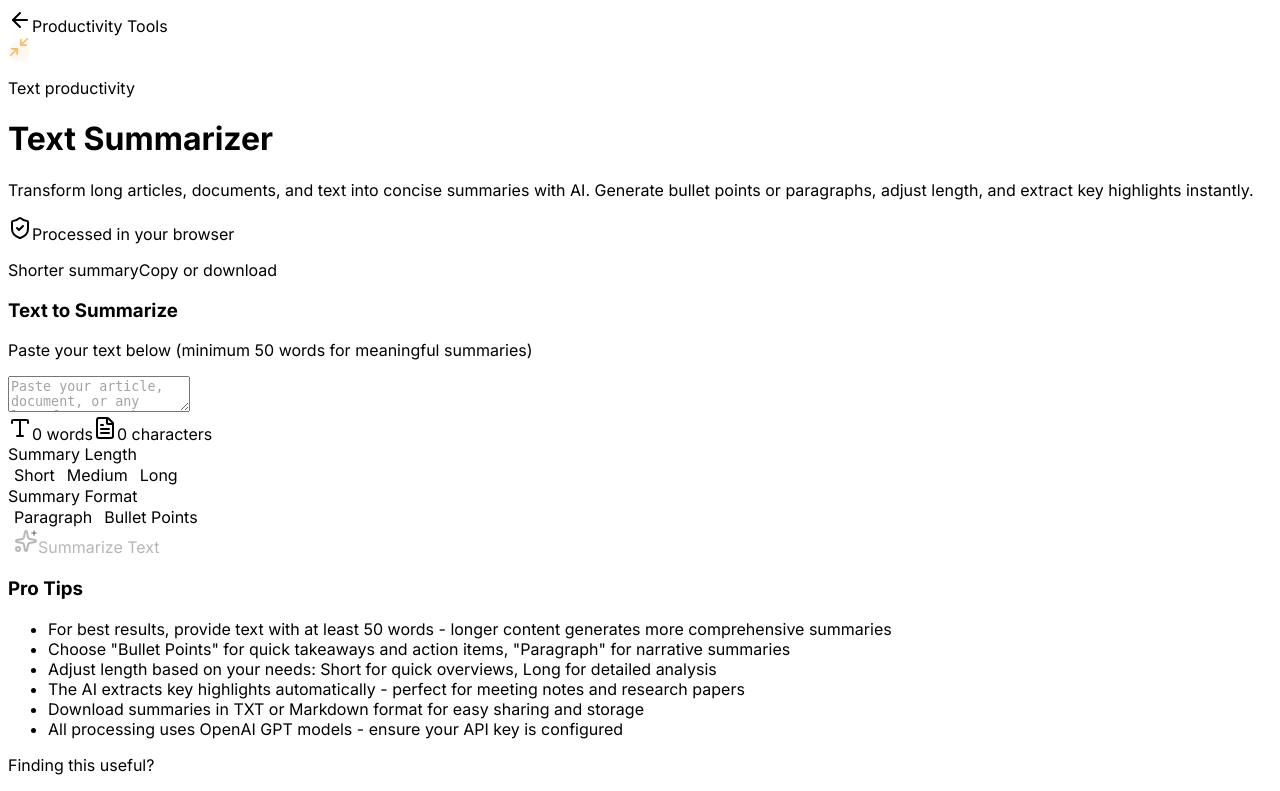
Test: Text Summarizer - Component Tests › should show word and character count
Type "Hello world" into the text box with placeholder "Paste your article, document".
click(99, 394); type("Hello world")  # box [8,376,190,412]
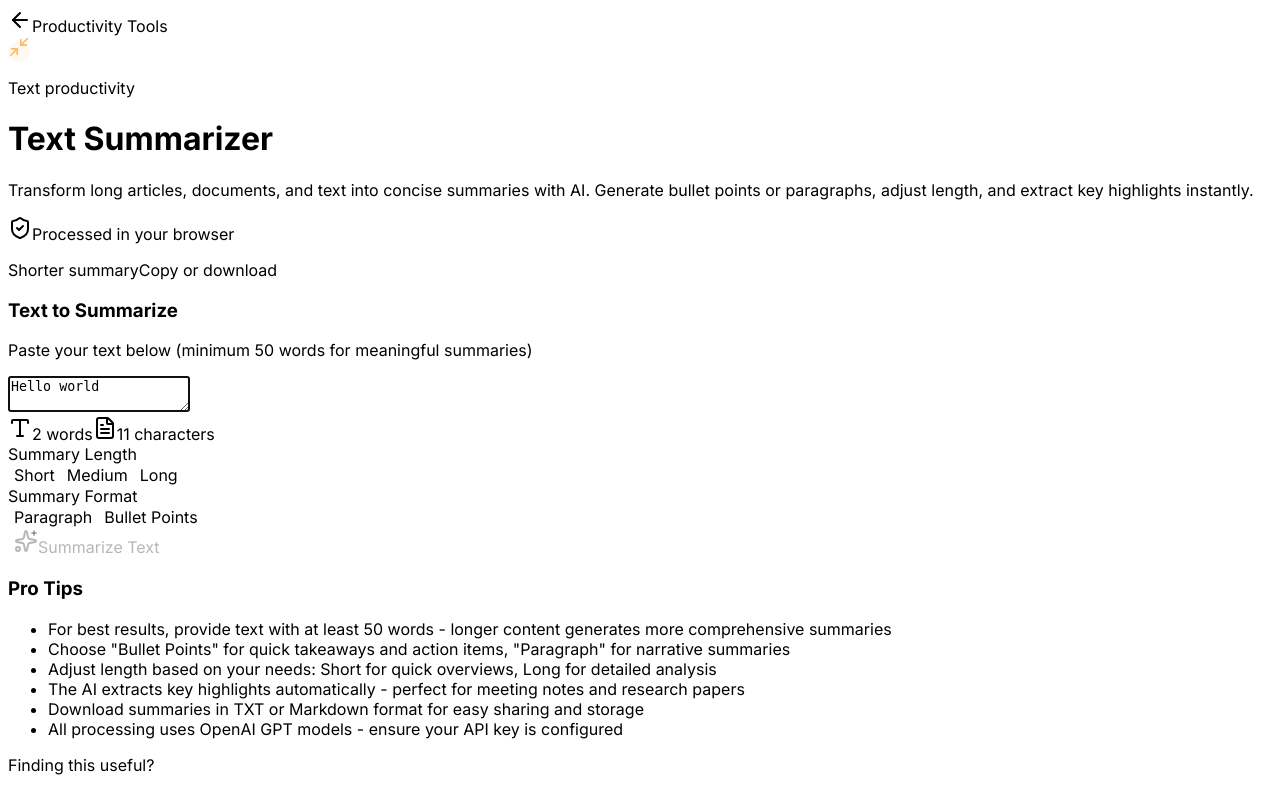
Result: the text "2 words" is shown at [8,424,93,444]
Result: the text "11 characters" is shown at [93,424,215,444]
